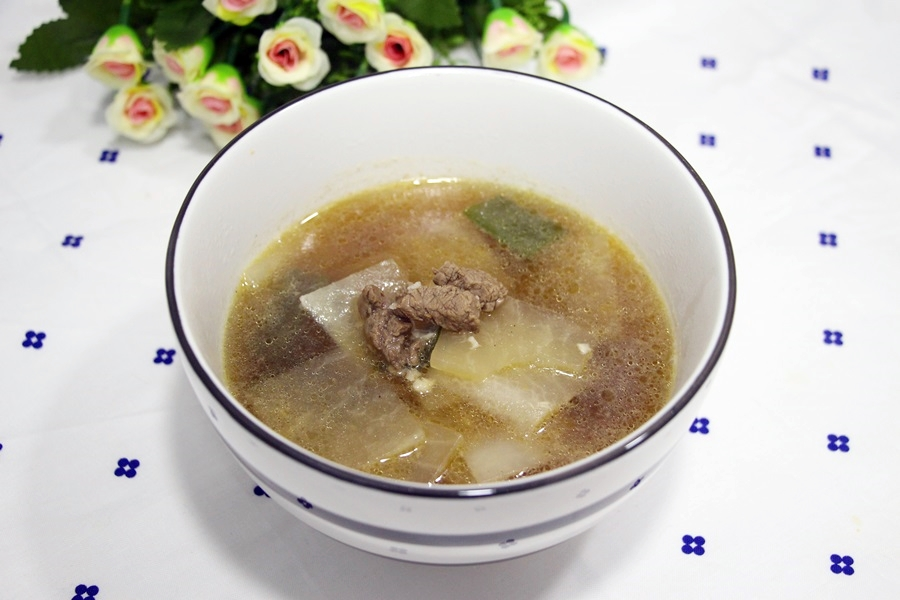mugug: (216, 174, 676, 491)
